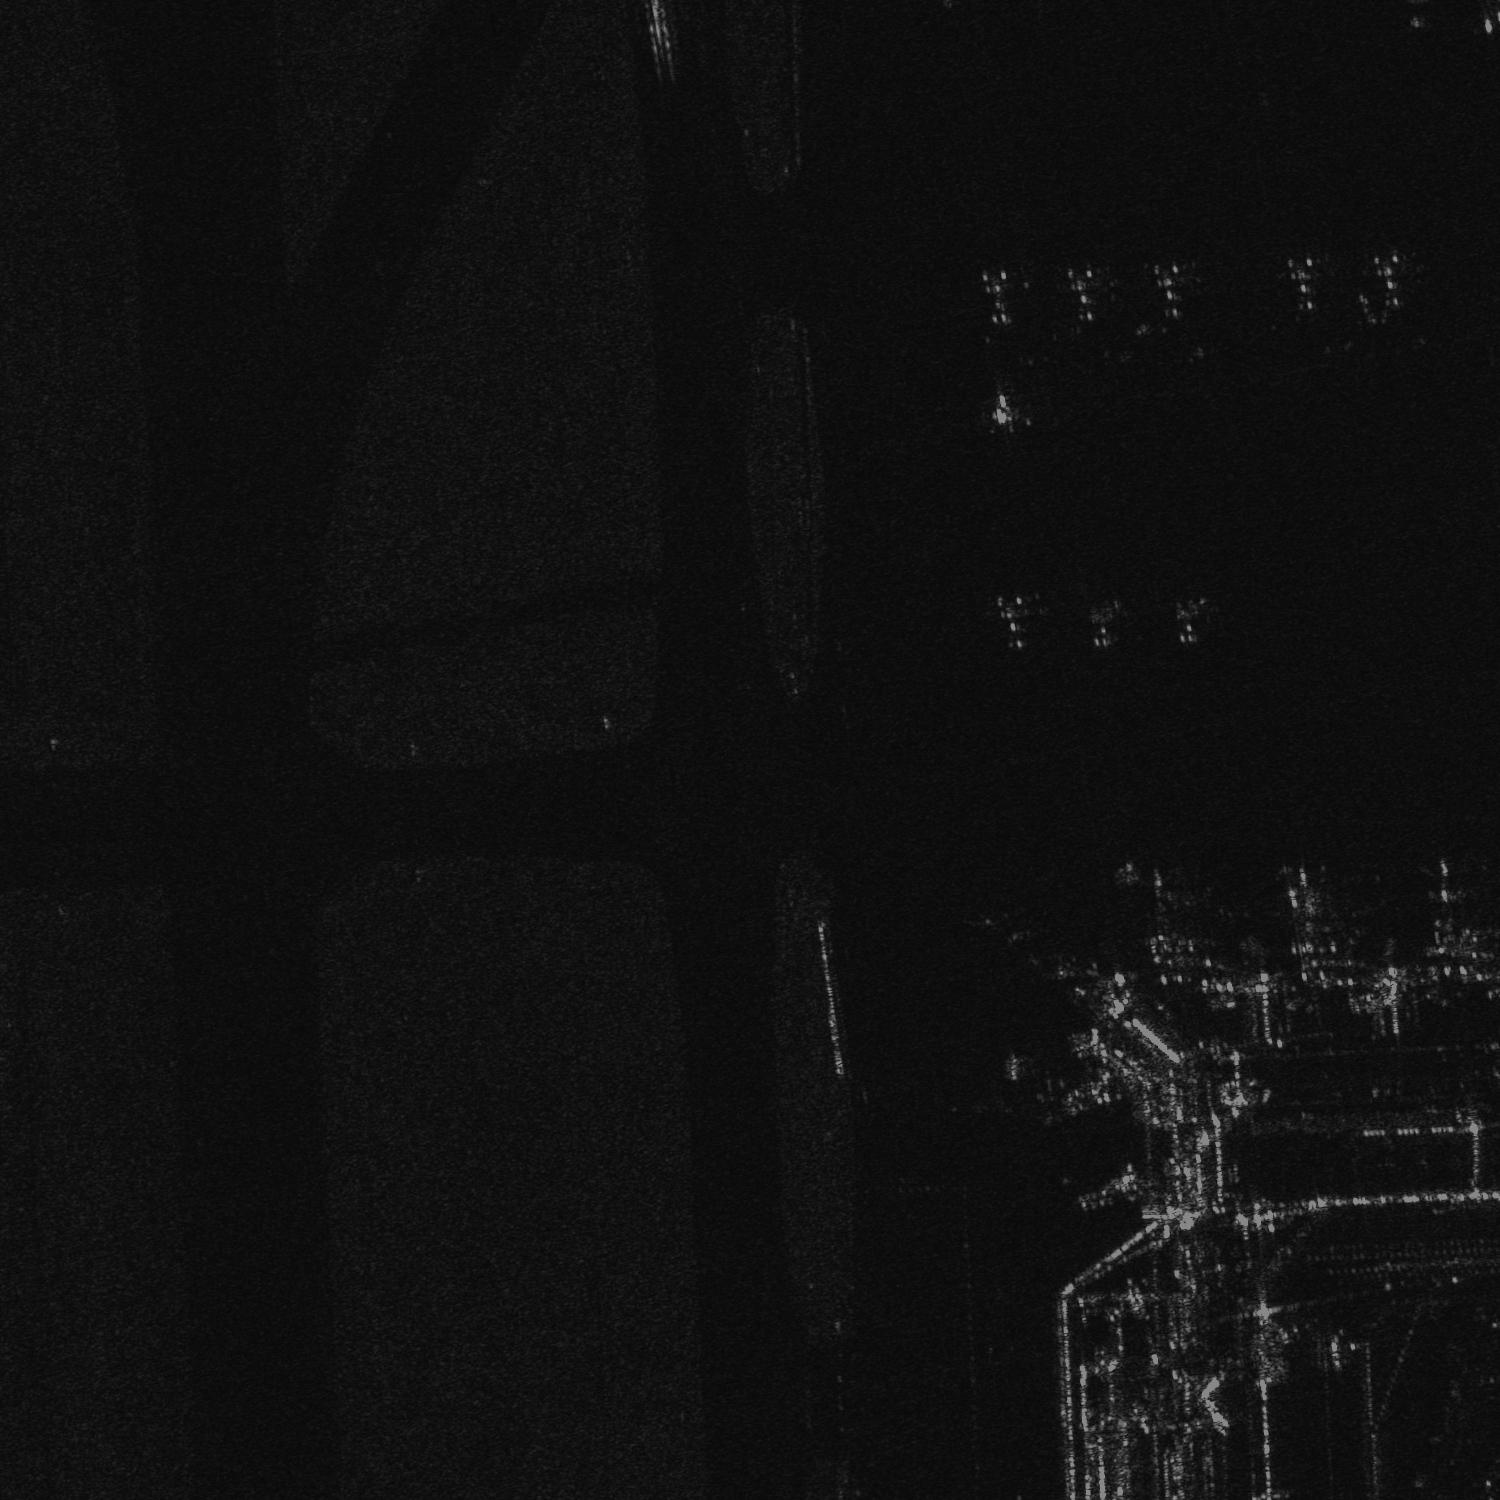A220: (1276, 860, 1342, 956), (1081, 596, 1126, 655)
A320/321: (1158, 592, 1210, 654)
ARJ21: (989, 593, 1049, 657), (985, 378, 1033, 431)
Boeing787: (1415, 853, 1474, 933)
other: (1130, 860, 1209, 970), (1055, 262, 1104, 331), (1148, 257, 1196, 321), (1365, 249, 1413, 313), (1276, 255, 1326, 315), (978, 264, 1016, 328)
